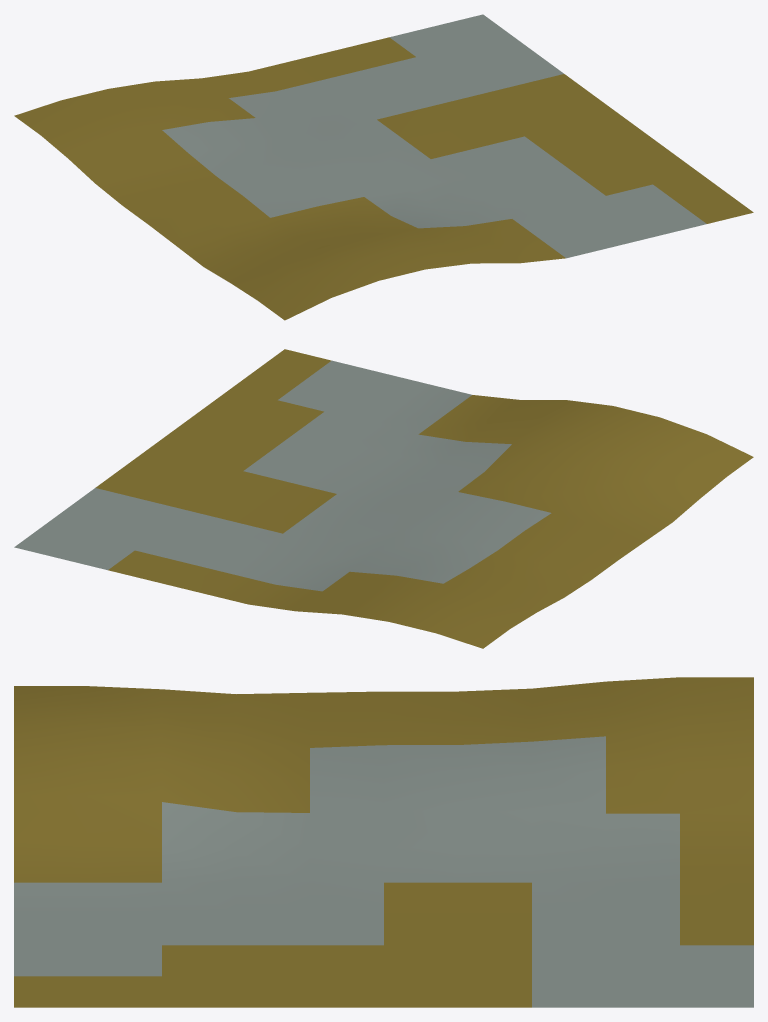
Rendered from level_1.fbx.
The picture shows the model from 3 angles, top to bottom: view 1: azimuth 30°, elevation 25°; view 2: azimuth 150°, elevation 25°; view 3: azimuth 270°, elevation 25°; orthographic projection. The views are drawn at different scales.
Visible parts, largest first — view 1: level1; view 2: level1; view 3: level1.
Part boxes in pixels (x1,y1,x2,y2): level1: (14,14,753,320); level1: (14,349,753,648); level1: (14,677,753,1007).
Size of the model in its own units: 31.48 by 1.49 by 31.48.
